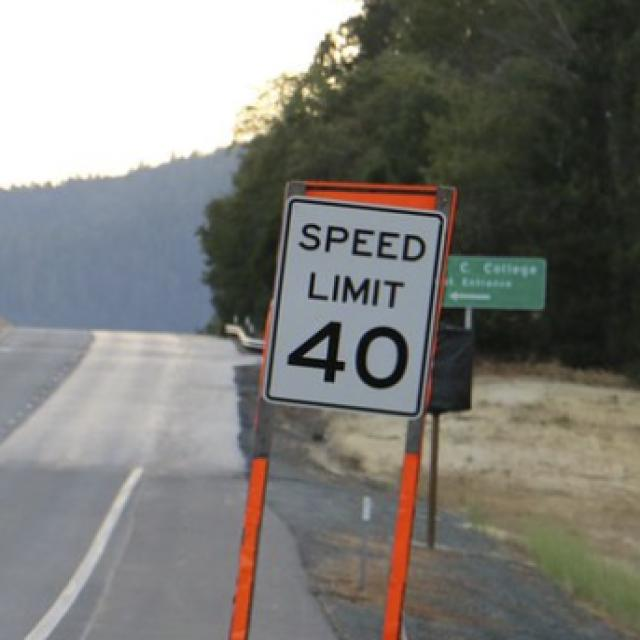speedLimit40: (283, 220, 428, 395)
